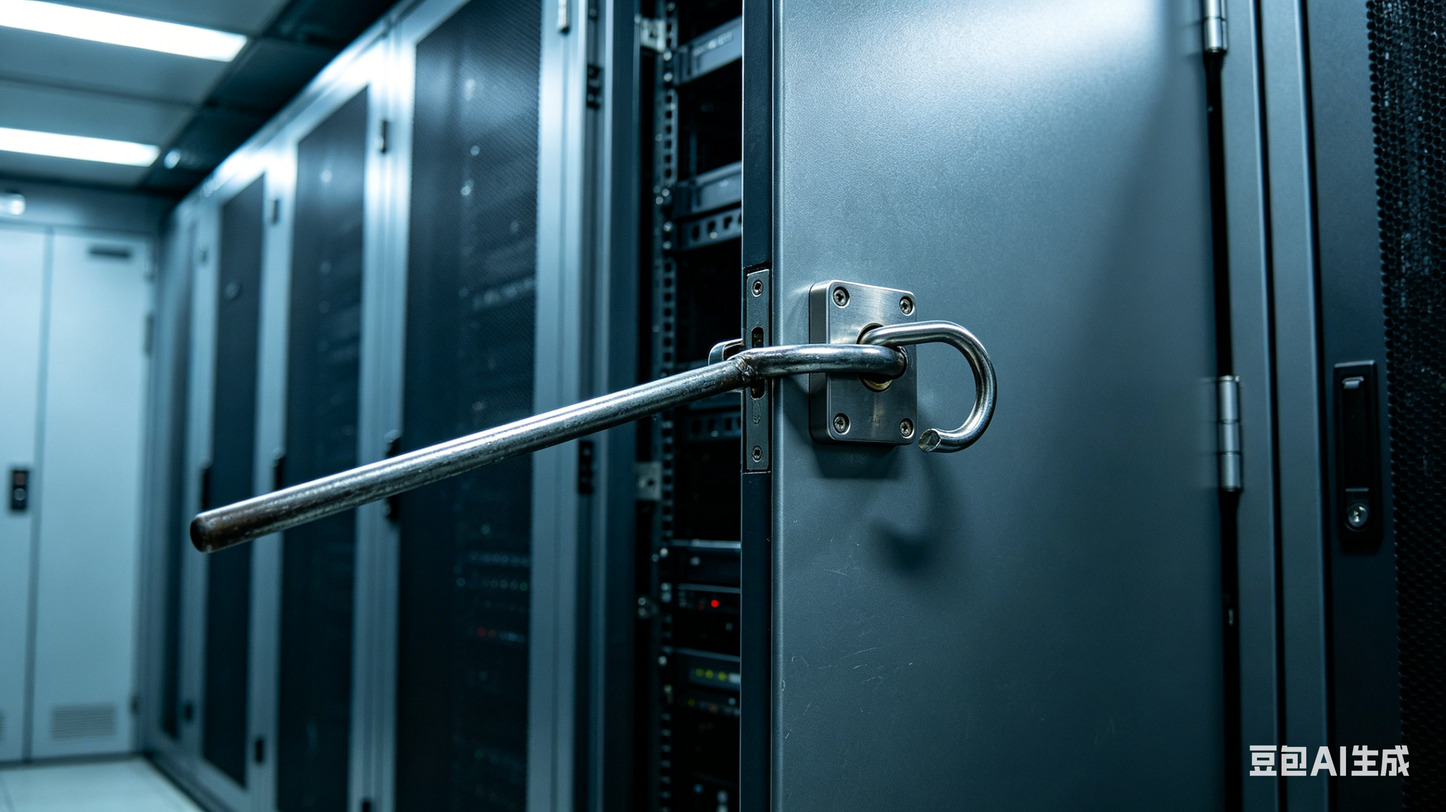BadLock: (735, 327, 947, 459)
